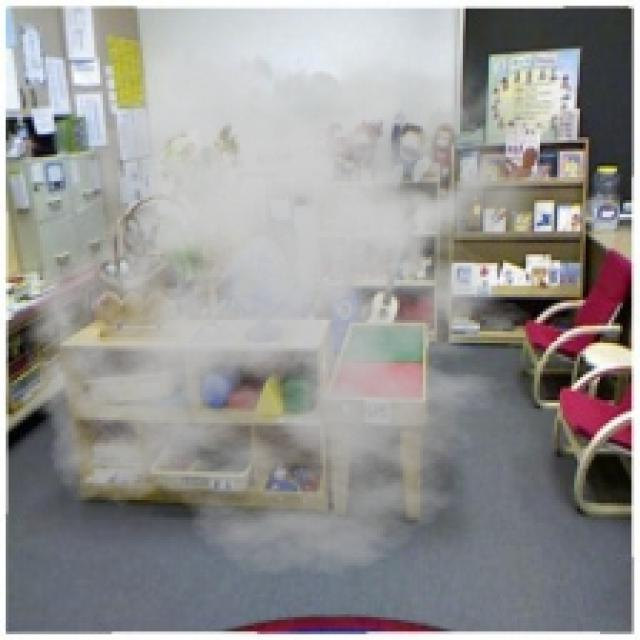smoke: (3, 26, 568, 577)
